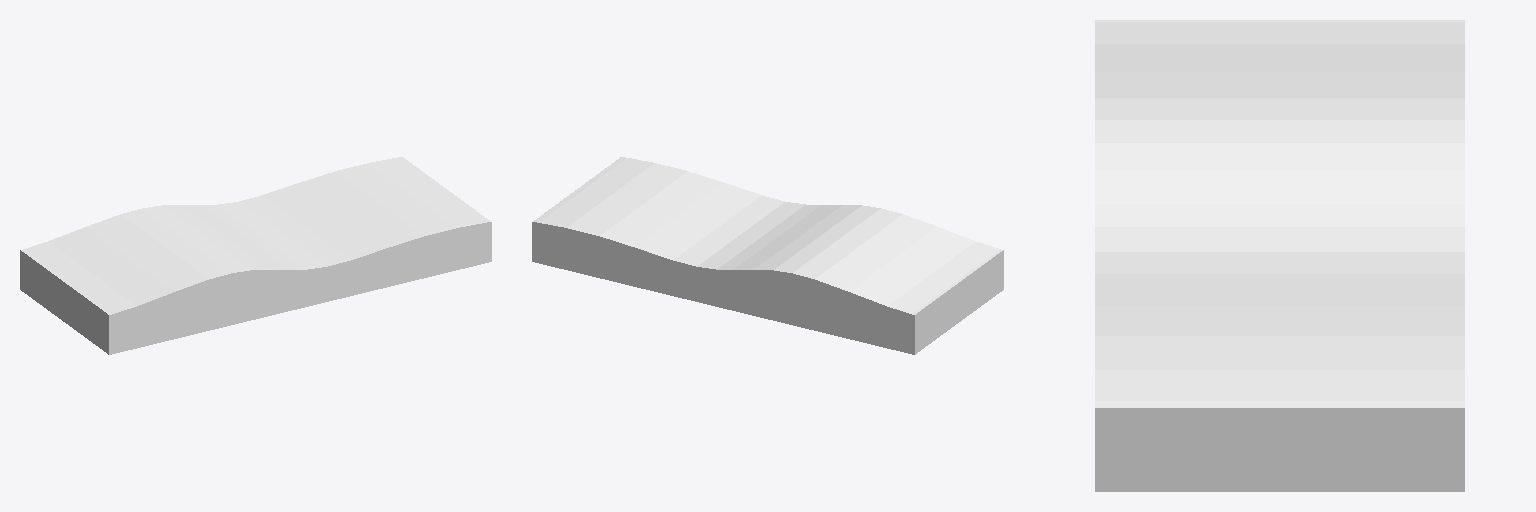
URDF robot description (wave.SLDPRT):
<?xml version="1.0" encoding="utf-8"?>
<!-- This URDF was automatically created by SolidWorks to URDF Exporter! Originally created by [author] ([email redacted]) 
     Commit Version: 1.5.1-0-g916b5db  Build Version: 1.5.7152.31018
     For more information, please see http://wiki.ros.org/sw_urdf_exporter -->
<robot
  name="wave.SLDPRT">
  <link
    name="wave">
    <inertial>
      <origin
        xyz="-0.043083 0.39987 0.010543"
        rpy="0 0 0" />
      <mass
        value="74.908" />
      <inertia
        ixx="4.1108"
        ixy="0.00305799999999999"
        ixz="0.21789"
        iyy="15.799"
        iyz="-0.000407549999999762"
        izz="19.681" />
    </inertial>
    <visual>
      <origin
        xyz="0 0 0"
        rpy="1.5707963267949 0 0" />
      <geometry>
        <mesh
          filename="package://wave/meshes/wave.STL" />
      </geometry>
      <material
        name="">
        <color
          rgba="1 1 1 1" />
        <texture
          filename="package://wave/textures/" />
      </material>
    </visual>
    <collision>
      <origin
        xyz="0 0 0"
        rpy="1.5707963267949 0 0" />
      <geometry>
        <mesh
          filename="package://wave/meshes/wave.STL" />
      </geometry>
    </collision>
  </link>
</robot>

--- Facts derived from the render (not from the file) ---
Views: 3 orthographic renders of the robot side by side, from view 1: azimuth 30°, elevation 25°; view 2: azimuth 150°, elevation 25°; view 3: azimuth 270°, elevation 25°.
Model wave.SLDPRT with 1 links and 0 joints (none), rooted at wave, posed every joint at zero.
Visible links, largest first — view 1: wave; view 2: wave; view 3: wave.
Link boxes in pixels (bbox=[...]): wave: bbox=[20, 157, 491, 354]; wave: bbox=[532, 157, 1003, 354]; wave: bbox=[1095, 20, 1464, 491].
Bounding box of the posed robot: 1 × 0.403 × 0.1299 m (x, y, z).
1 mesh visuals loaded from 1 distinct referenced files (1 binary STL).
